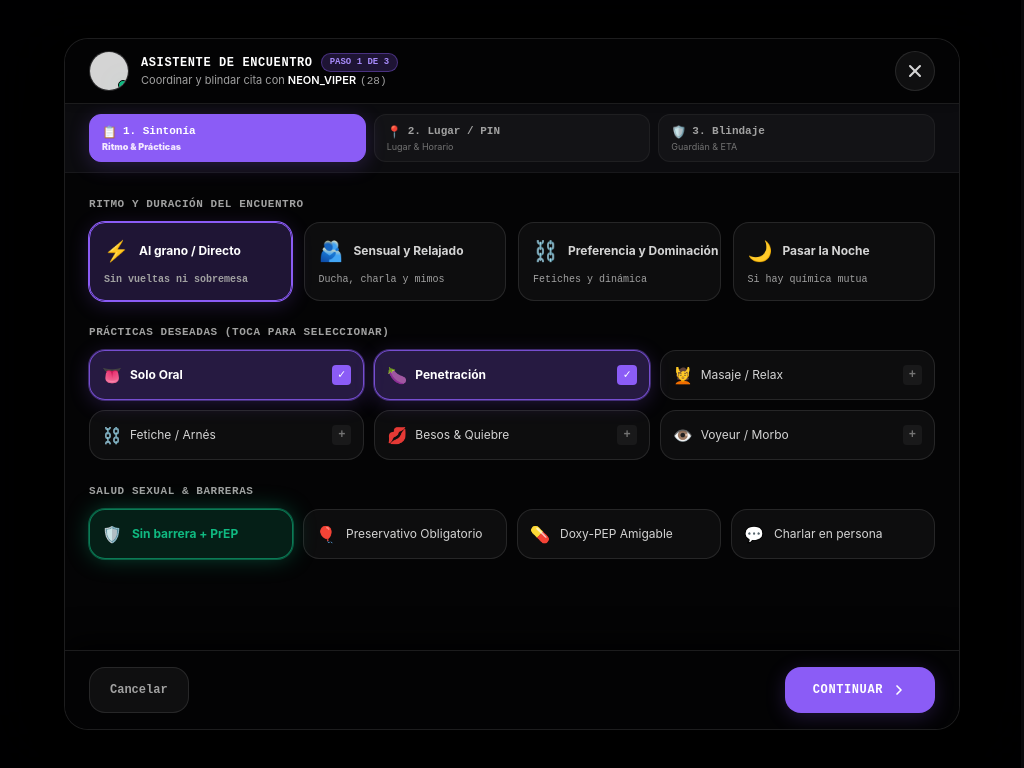
RendezvousSheet — Asistente Unificado de Cita (Fase 2) › debe permitir retroceder con el botón 'Atrás'
The width and height of the screenshot is (1024, 768).
Note: Avanzar a paso 2
Click the button "Continuar": (860, 690) [785, 667, 935, 713]
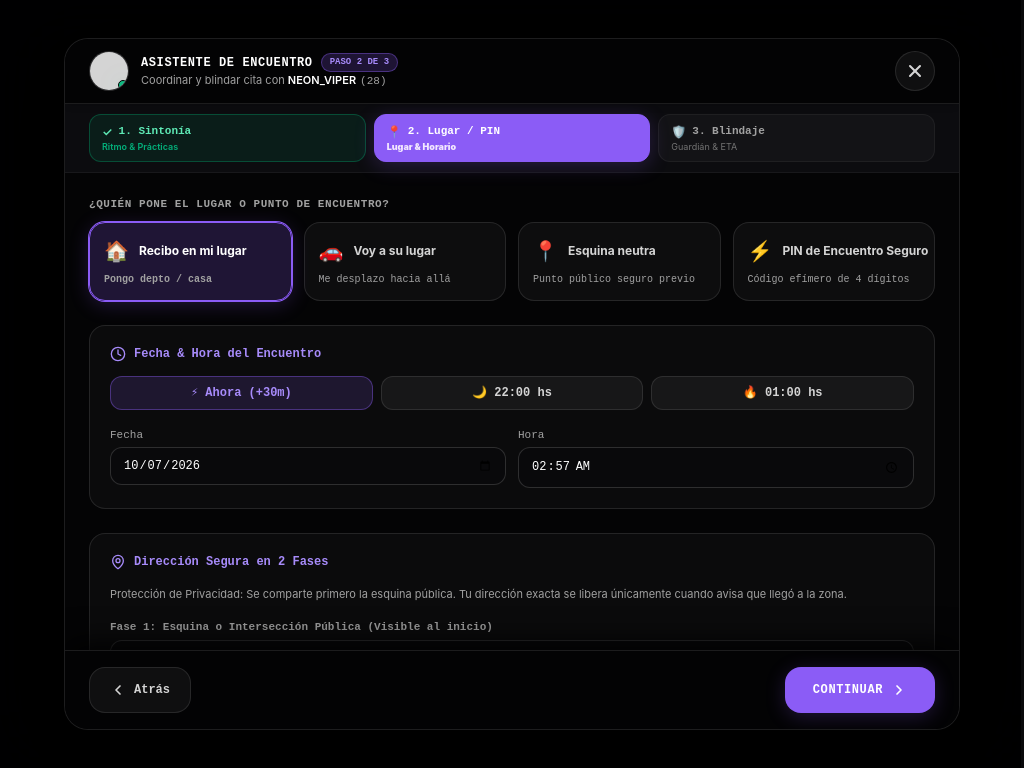
Expected: the text "¿Quién Pone el Lugar o Punto de Encuentro?" is shown, [89, 198, 389, 210]
Note: Retroceder a paso 1
Click the button "Atrás": (140, 690) [89, 667, 191, 713]
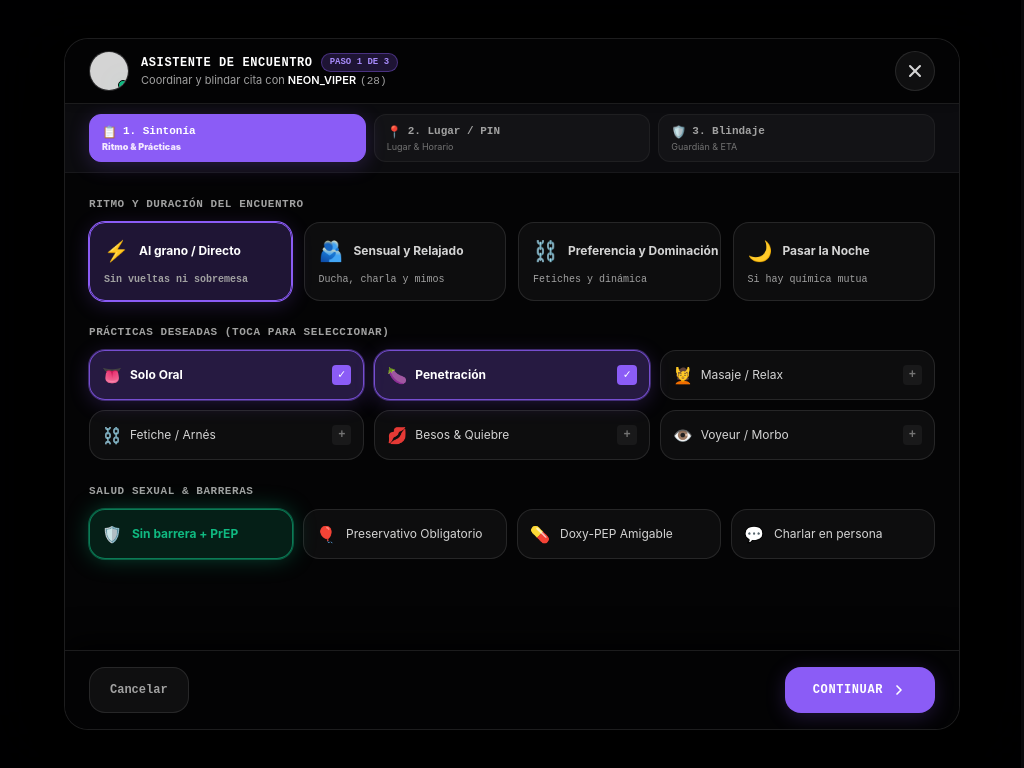
Expected: the text "Ritmo y Duración del Encuentro" is shown, [89, 198, 304, 210]
